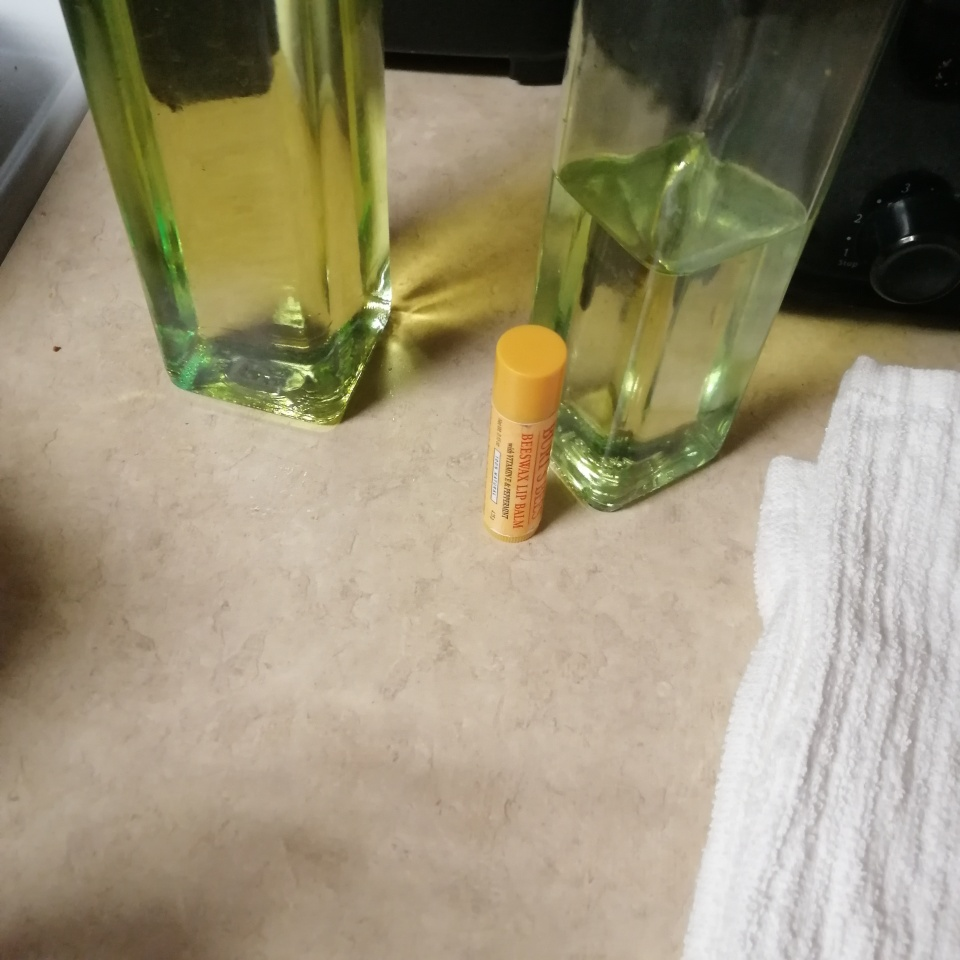chapstick: (482, 323, 567, 545)
